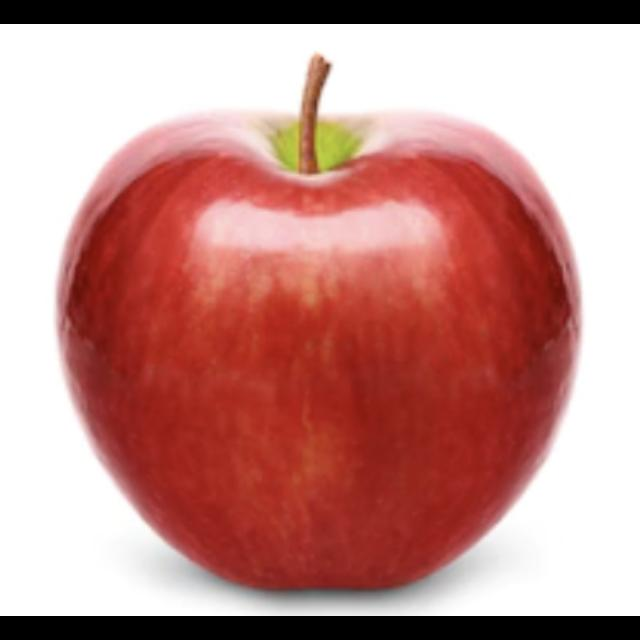Apel Segar: (43, 97, 591, 608)
